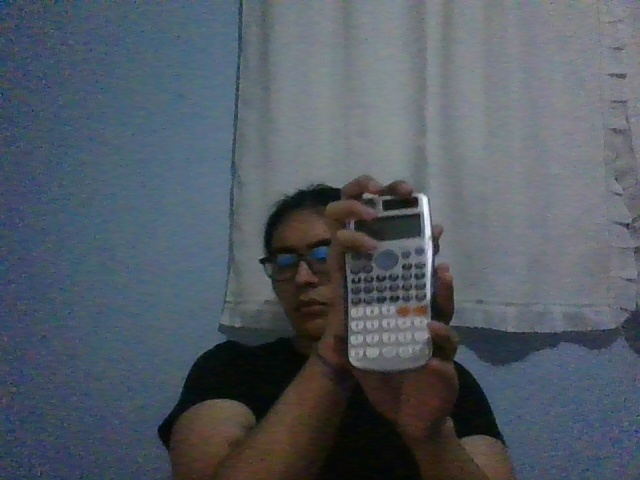calculadora: (344, 193, 434, 375)
